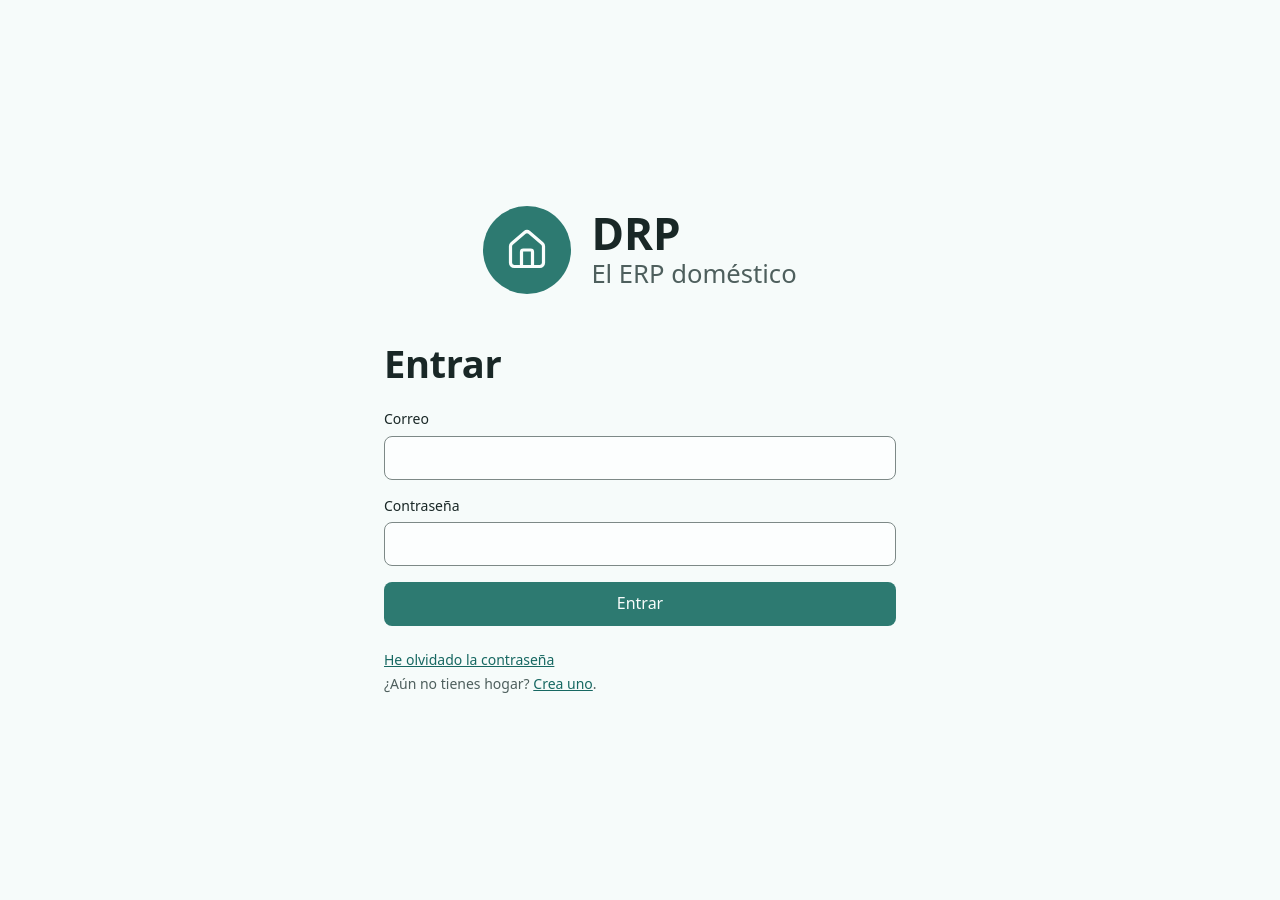
Test: acceso › entra con credenciales correctas y aterriza en el hogar
The width and height of the screenshot is (1280, 900).
Type "kike@example.test" into the field labelled "Correo" at point(640, 458), box [384,436,896,480]
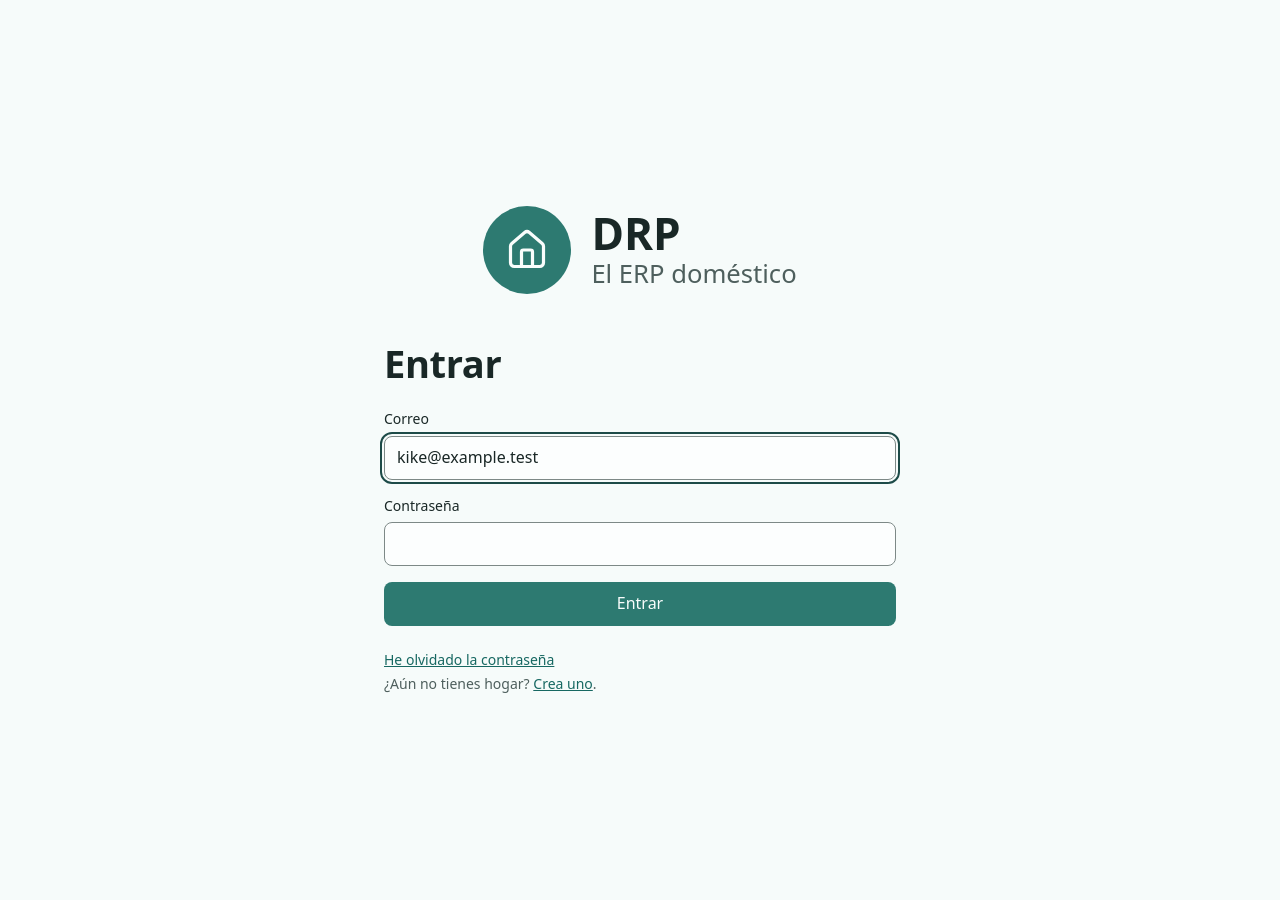
Type "el gato duerme en el sofa" into the password field labelled "Contraseña" at point(640, 544), box [384,522,896,566]
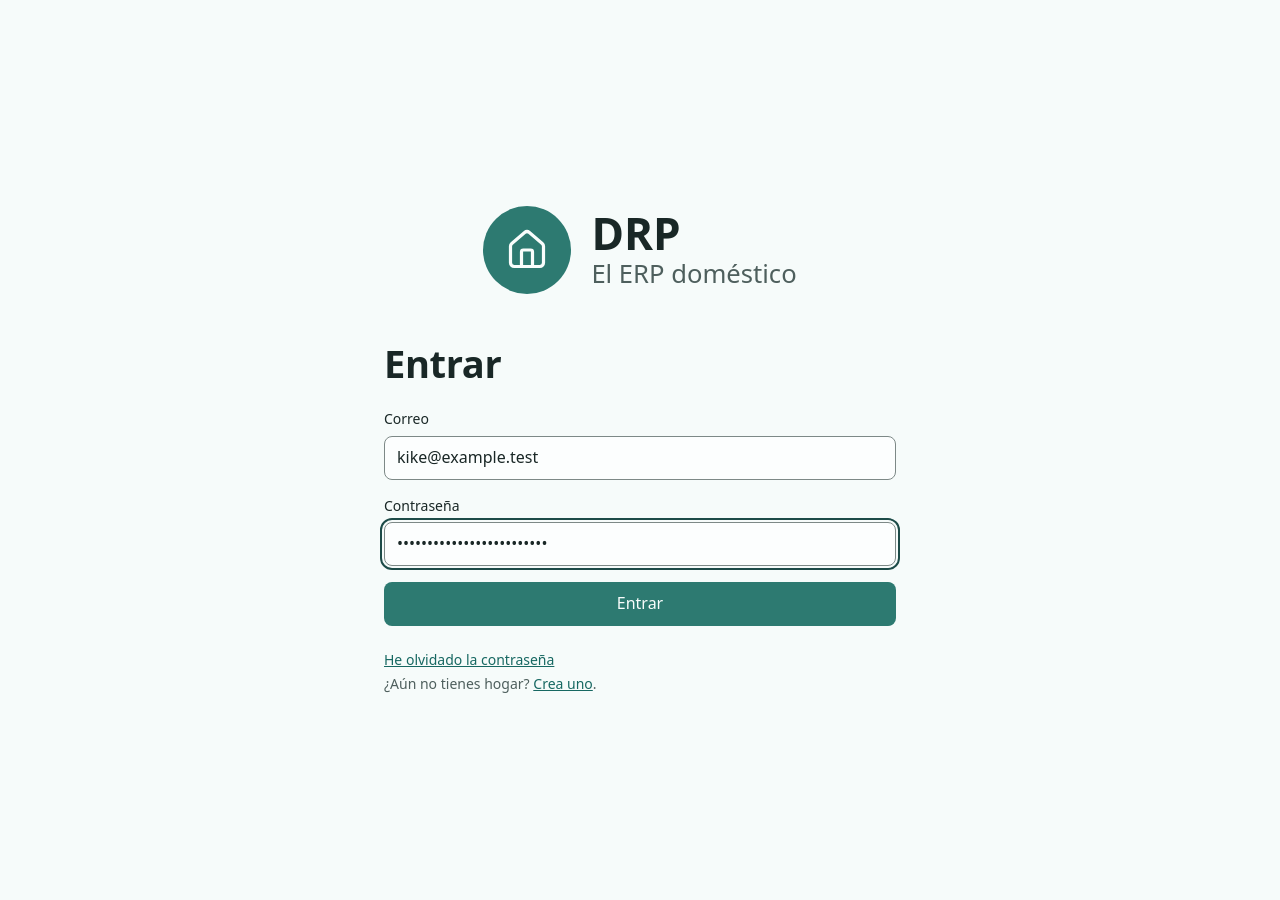
Click the button "Entrar" at point(640, 604), box [384,582,896,626]
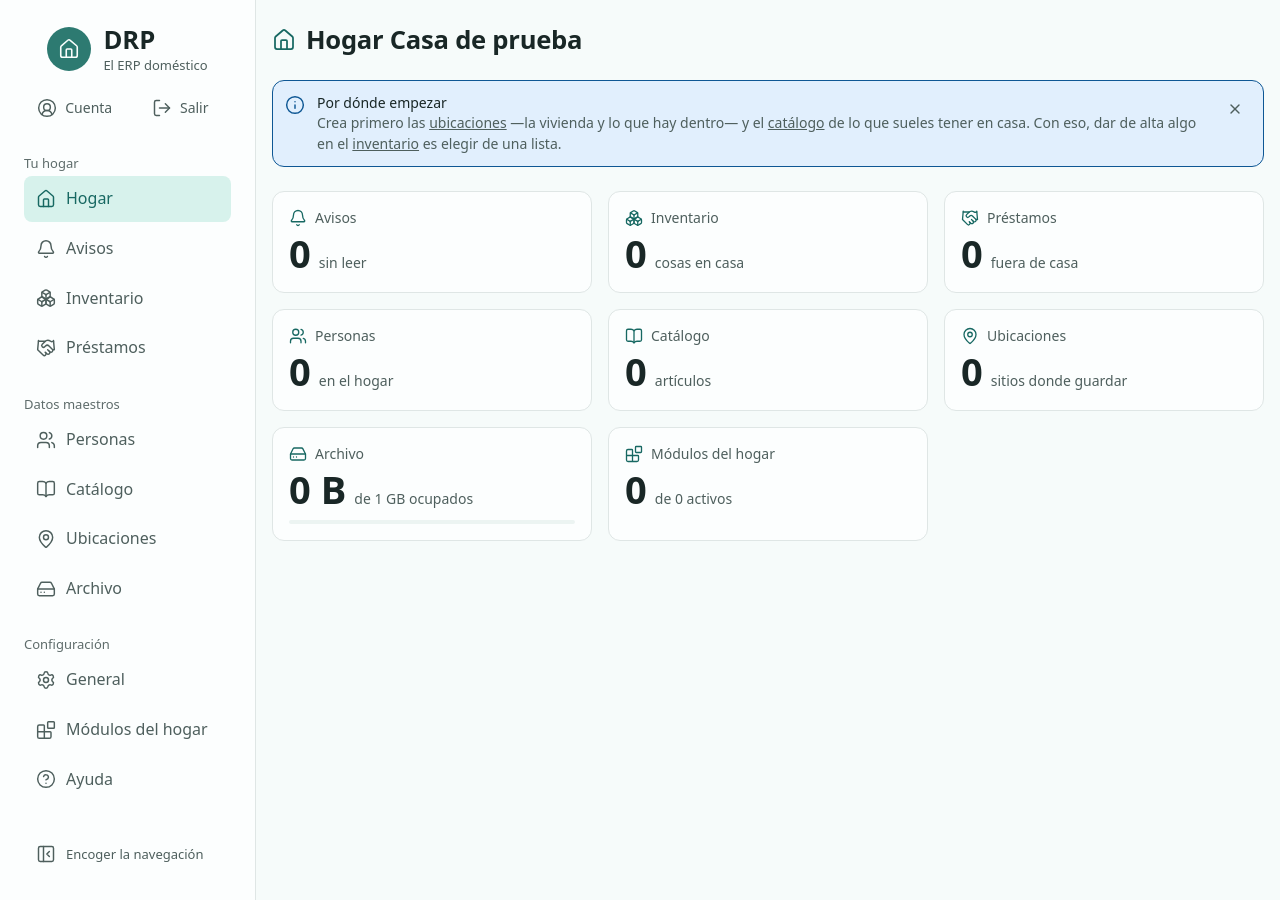
Expected: the heading "Hogar Casa de prueba" is shown, [306,24,582,56]
